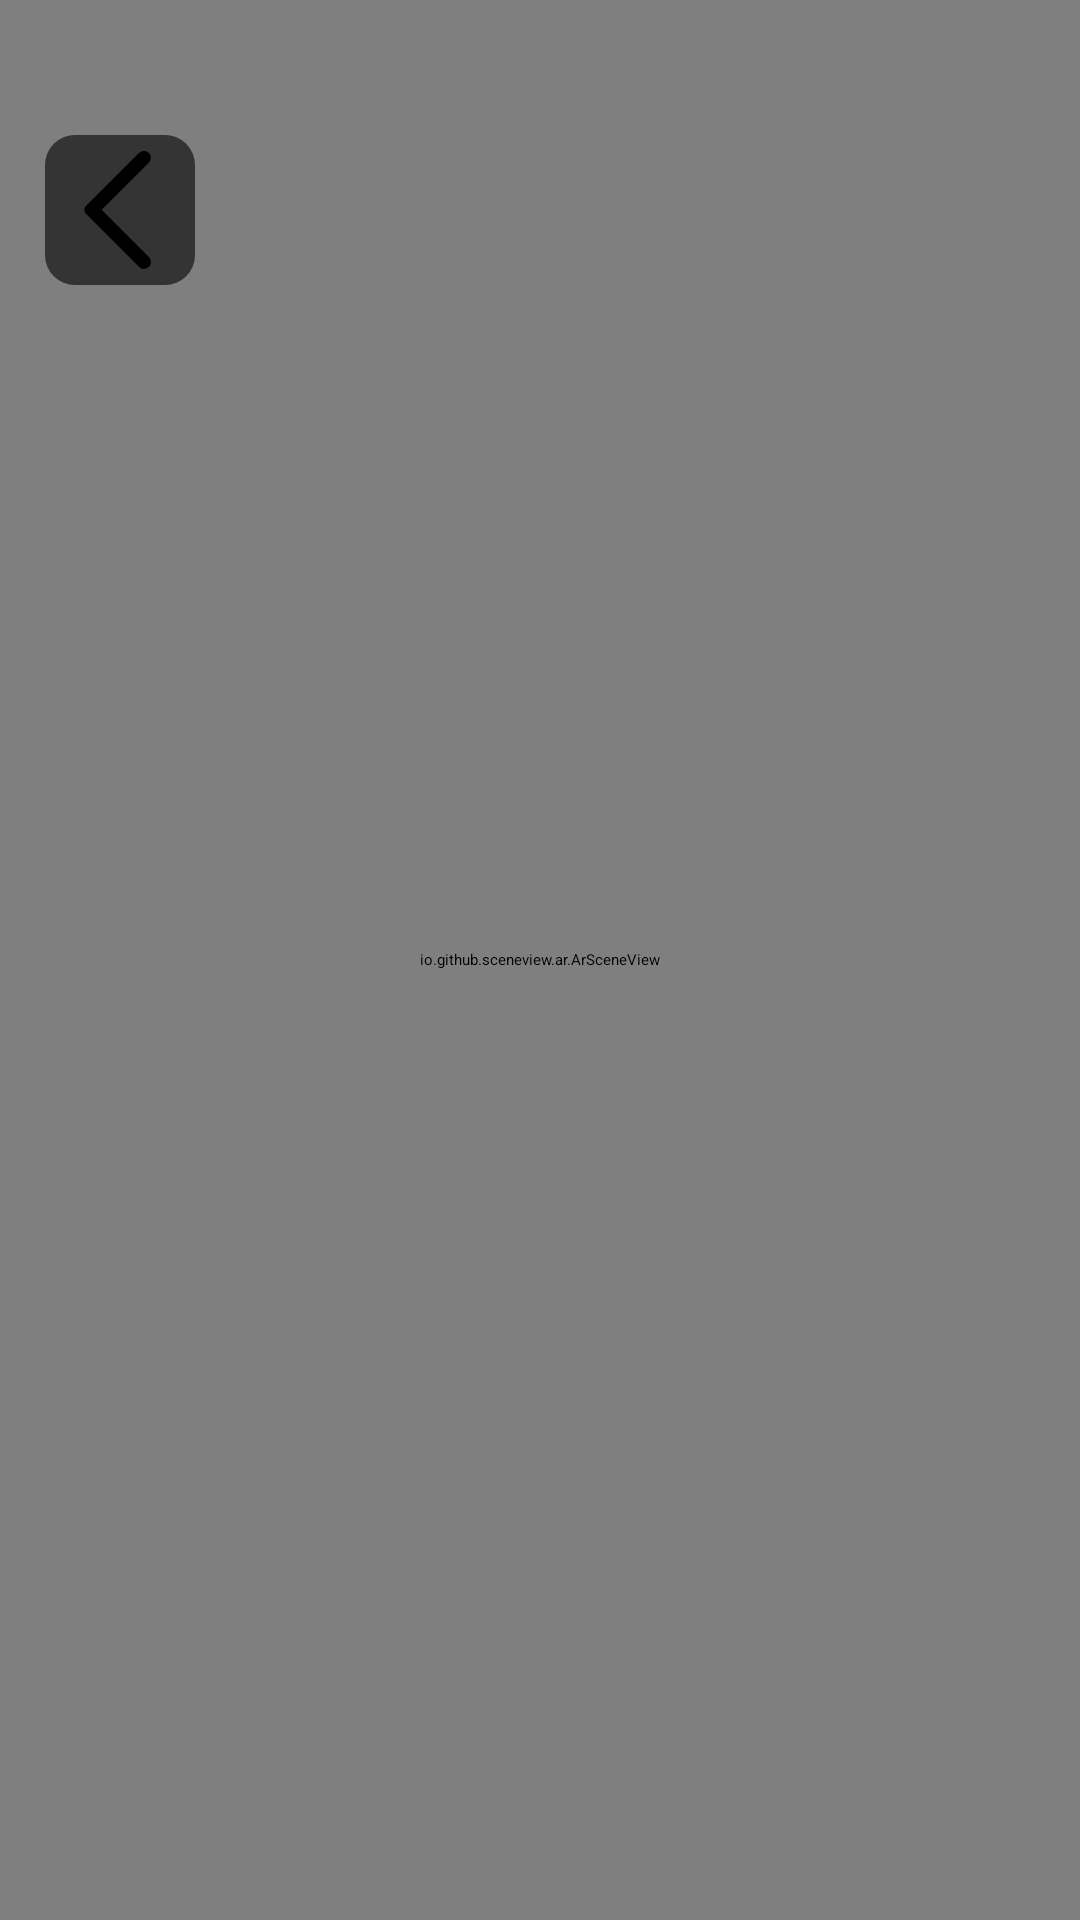

Icons on this 1080 × 1920 Android screen, each with its box as BBox(x1, y1, x2, y2):
Закрыть окно с камерой: BBox(45, 135, 195, 285)
